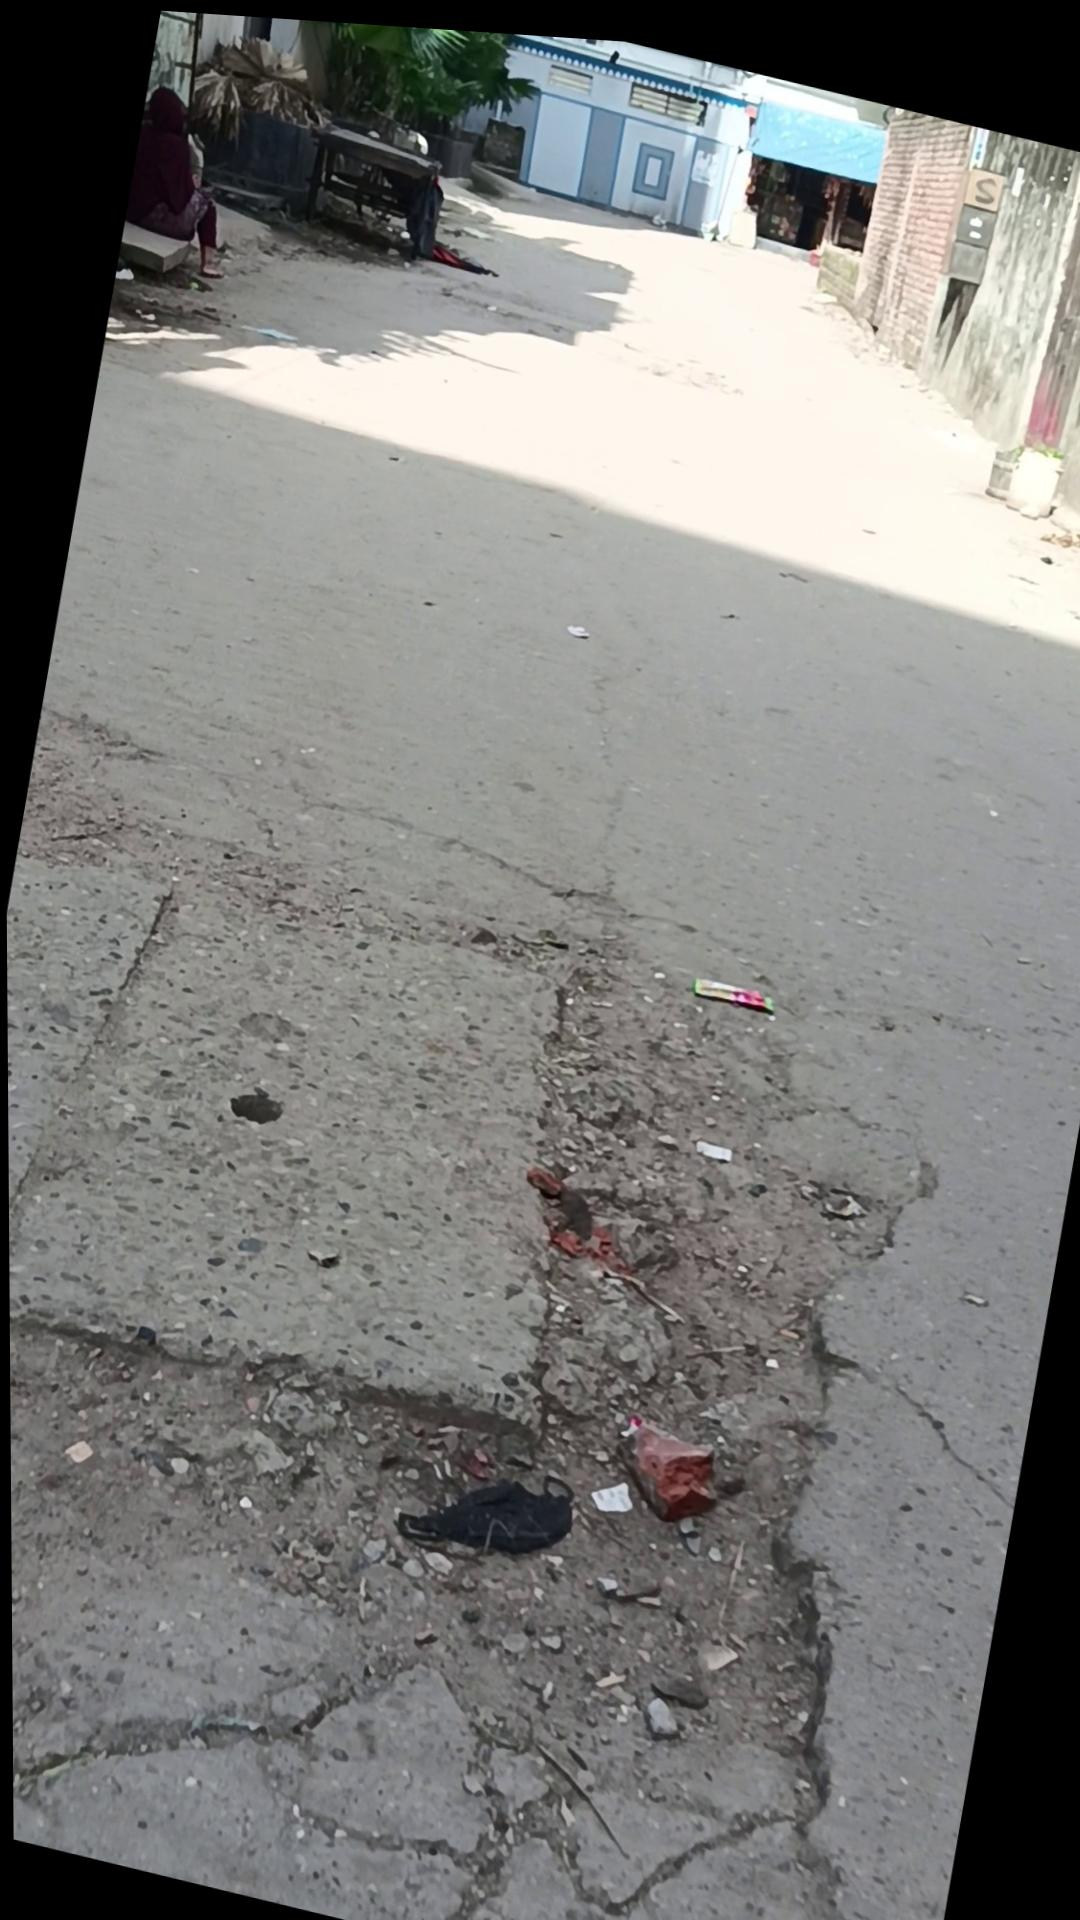Broken-road: (0, 76, 1080, 1920)
Motorcycle: (291, 112, 451, 262)
Muddy road: (117, 76, 255, 281)
Rickshaw: (806, 235, 822, 256)
